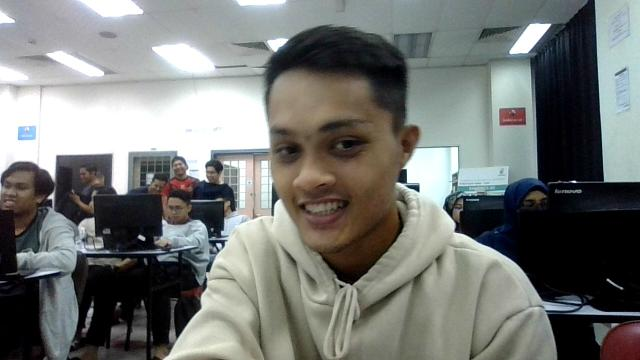senang: (266, 24, 412, 259)
